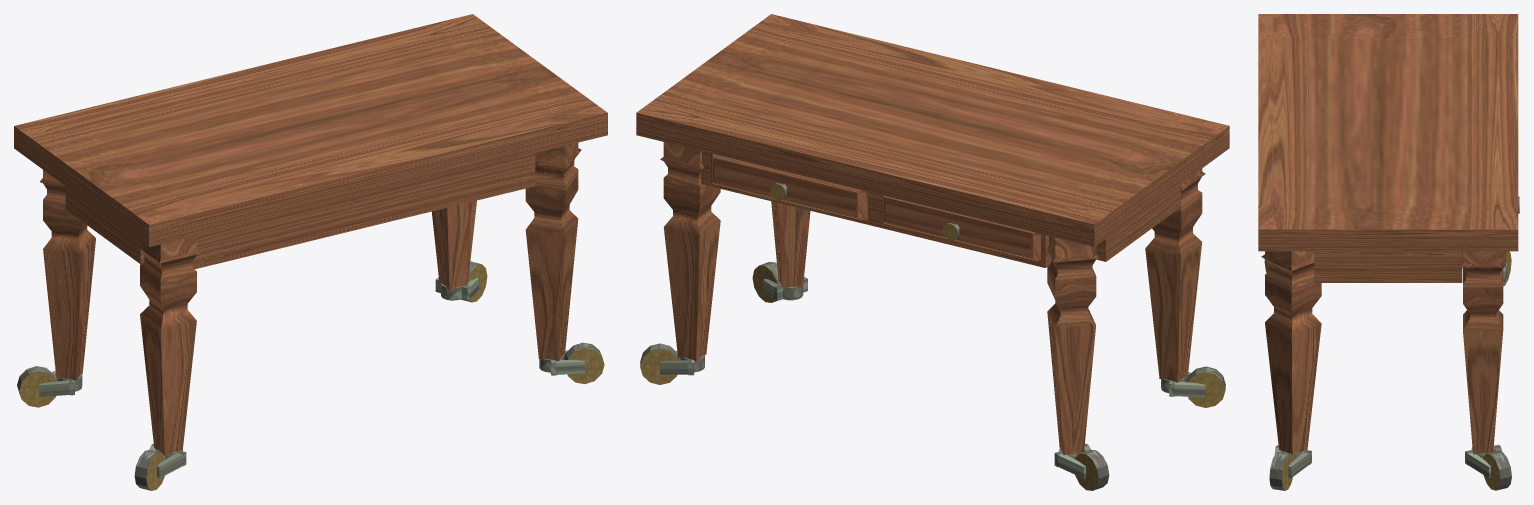
Rendered from YuchenZ_StudyDesk_Master.fbx.
3 views of the same model, side by side, from view 1: azimuth 30°, elevation 25°; view 2: azimuth 150°, elevation 25°; view 3: azimuth 270°, elevation 25° (orthographic). The views are drawn at different scales.
Parts seen in each view (by area): view 1: polySurface11; view 2: polySurface11, polySurface16; view 3: polySurface11.
Part boxes in pixels (bbox=[...]): polySurface11: bbox=[14, 14, 607, 490]; polySurface11: bbox=[636, 14, 1229, 490]; polySurface16: bbox=[711, 153, 867, 219]; polySurface11: bbox=[1258, 14, 1518, 490].
Bounding box in the file's own units: 8.23 × 4.59 × 4.11.
